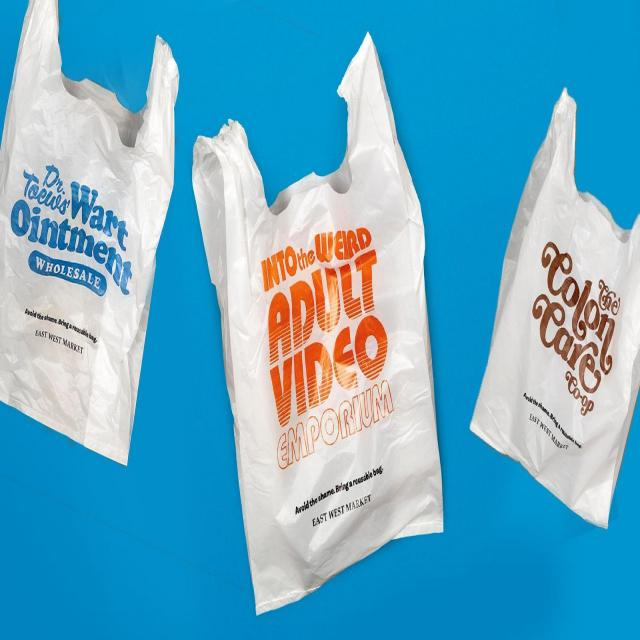plastic_bag: (199, 141, 444, 596), (2, 5, 170, 455), (487, 110, 640, 508)
